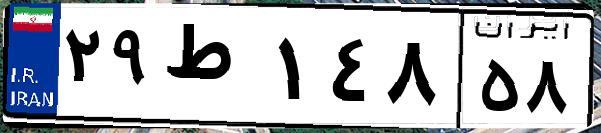1: (270, 28, 330, 110)
2: (57, 26, 110, 100)
4: (330, 28, 385, 110)
5: (475, 38, 525, 113)
8: (385, 28, 445, 110), (525, 38, 570, 115)
9: (110, 28, 158, 98)
ط: (158, 20, 270, 120)
